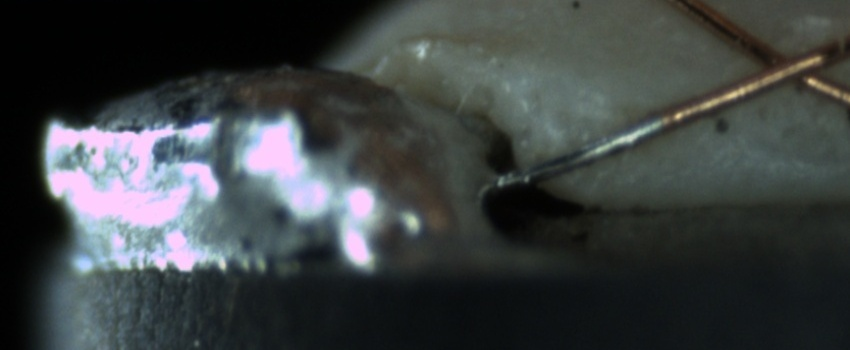CL: (737, 28, 843, 99)
TS: (499, 116, 665, 190)
